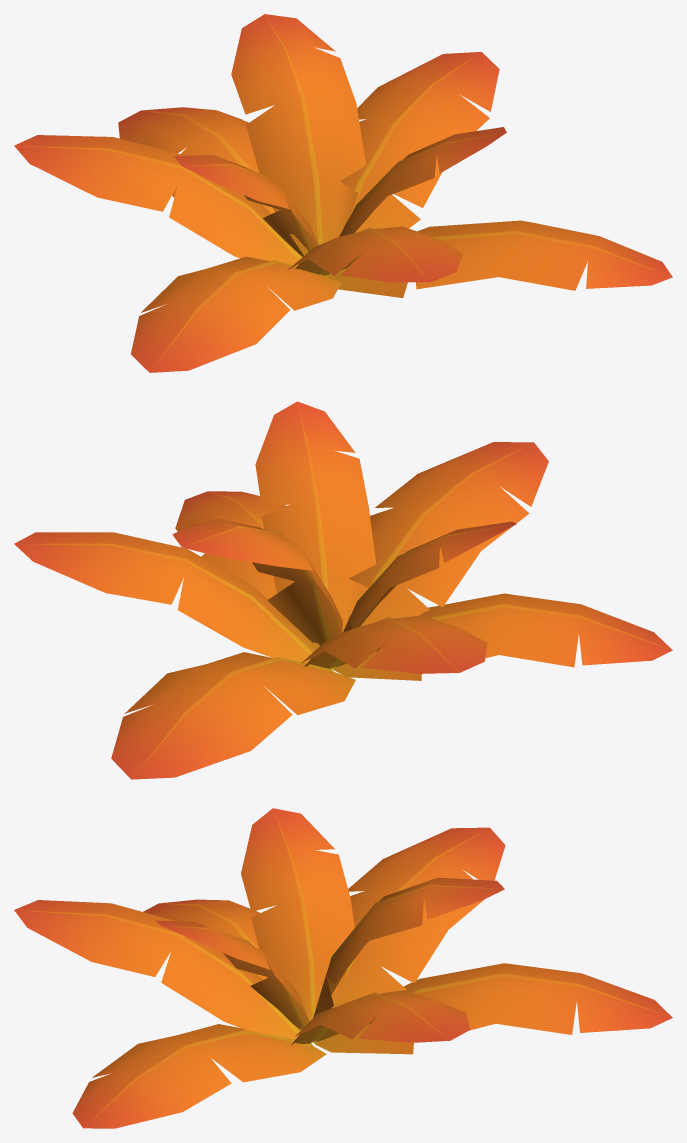
Rendered from prop_environment_plant01_3.fbx.
The picture shows the model from 3 angles, top to bottom: view 1: azimuth 30°, elevation 25°; view 2: azimuth 150°, elevation 25°; view 3: azimuth 270°, elevation 25°; orthographic projection. The views are drawn at different scales.
Parts seen in each view (by area): view 1: prop_environment_plant01_3; view 2: prop_environment_plant01_3; view 3: prop_environment_plant01_3.
Part boxes in pixels (x1,y1,x2,y2): prop_environment_plant01_3: [14, 14, 672, 372]; prop_environment_plant01_3: [14, 401, 672, 779]; prop_environment_plant01_3: [14, 808, 672, 1128].
Bounding box in the file's own units: 389 × 136 × 465.
Materials: 1 (1 with a texture image).
